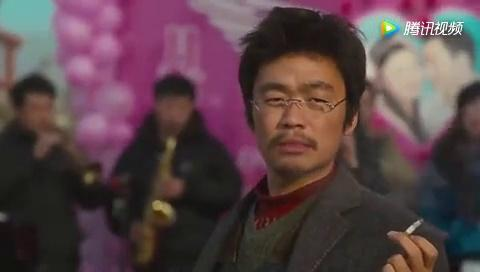smoke: (402, 218, 425, 236)
